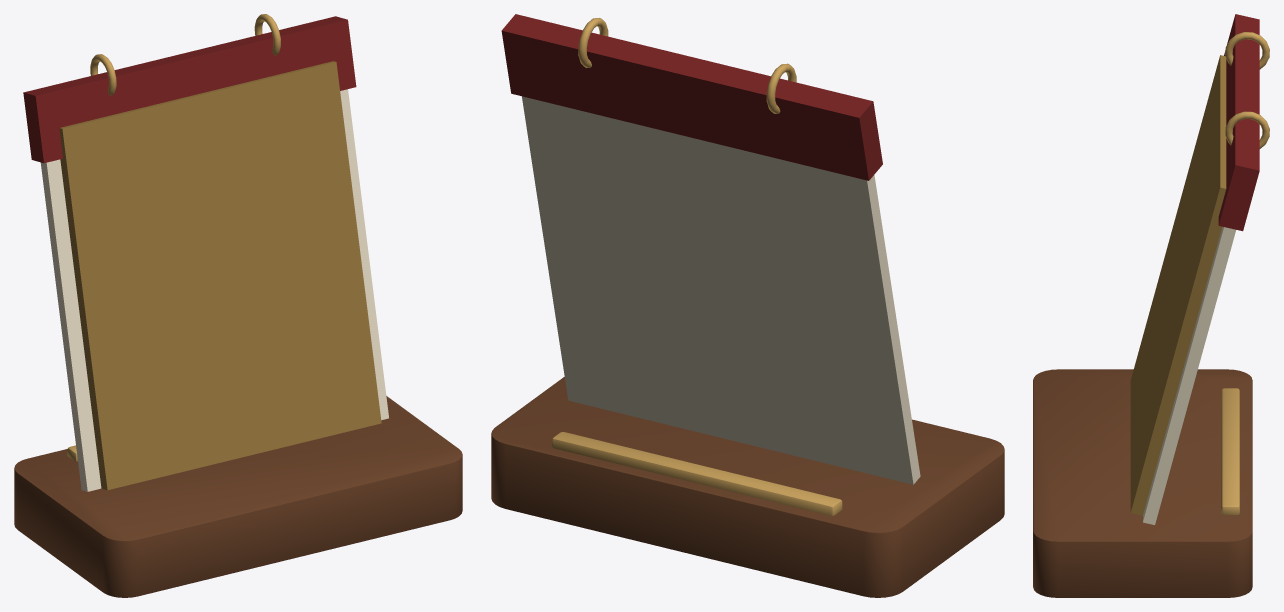
The model's file is Calendar.fbx.
3 renders of one model, left to right at view 1: azimuth 30°, elevation 25°; view 2: azimuth 150°, elevation 25°; view 3: azimuth 270°, elevation 25°, orthographic. The views are drawn at different scales.
Parts seen in each view (by area): view 1: CalendarCard, Calendar; view 2: CalendarCard, Calendar; view 3: Calendar, CalendarCard.
Part boxes in pixels (x1,y1,x2,y2): CalendarCard: (23,14,388,491); Calendar: (14,396,462,597); CalendarCard: (501,14,920,484); Calendar: (491,377,1004,597); Calendar: (1033,369,1252,597); CalendarCard: (1130,14,1269,524).
Size of the model in its own units: 0.13 by 0.1548 by 0.0755.
